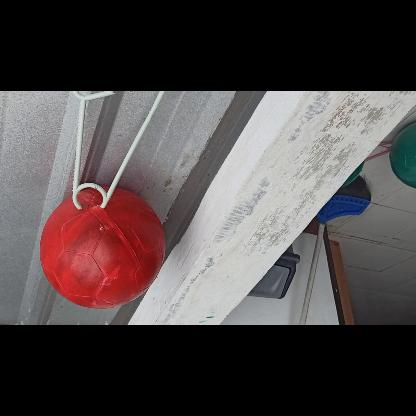red_ball: (37, 185, 163, 311)
